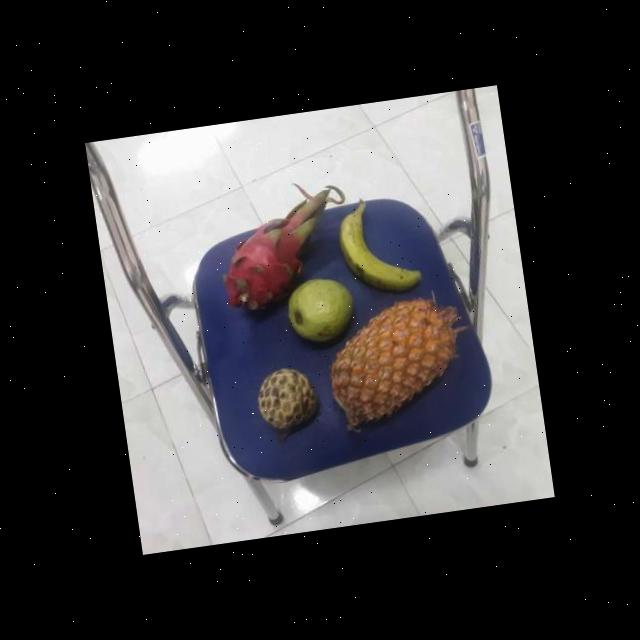Sakya fruit: (254, 364, 326, 436)
banana: (334, 200, 424, 301)
guava: (284, 274, 363, 348)
pineapple: (323, 293, 475, 431)
pitaya: (222, 208, 333, 316)
